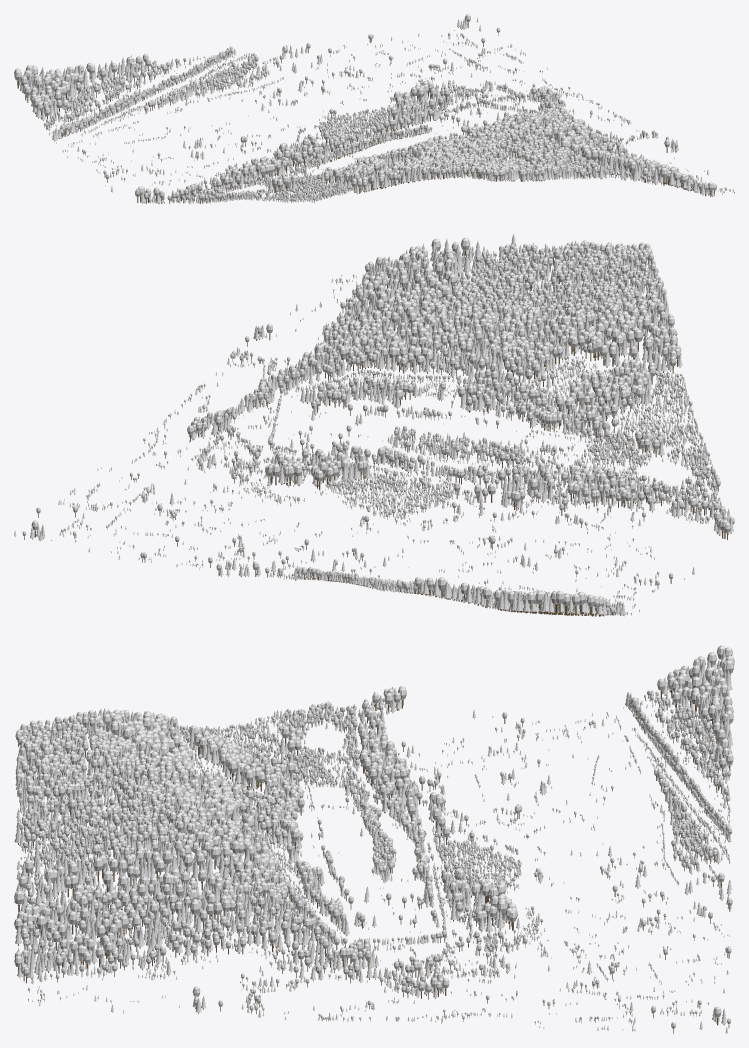
The model's file is stromy.glb.
3 renders of one model, top to bottom at view 1: azimuth 30°, elevation 25°; view 2: azimuth 150°, elevation 25°; view 3: azimuth 270°, elevation 25°, orthographic. The views are drawn at different scales.
Visible parts, largest first — view 1: Stromy_Listnate_08_02, Stromy_Ihlicnate_08_02; view 2: Stromy_Listnate_08_02, Stromy_Ihlicnate_08_02; view 3: Stromy_Listnate_08_02, Stromy_Ihlicnate_08_02.
Part boxes in pixels (x1=…): Stromy_Listnate_08_02: x1=14, y1=14, x2=734, y2=204; Stromy_Ihlicnate_08_02: x1=19, y1=15, x2=733, y2=204; Stromy_Listnate_08_02: x1=22, y1=237, x2=734, y2=616; Stromy_Ihlicnate_08_02: x1=14, y1=234, x2=733, y2=616; Stromy_Listnate_08_02: x1=14, y1=645, x2=734, y2=1033; Stromy_Ihlicnate_08_02: x1=14, y1=649, x2=733, y2=1033.
Bounding box in the file's own units: 1011 × 226 × 1013.
